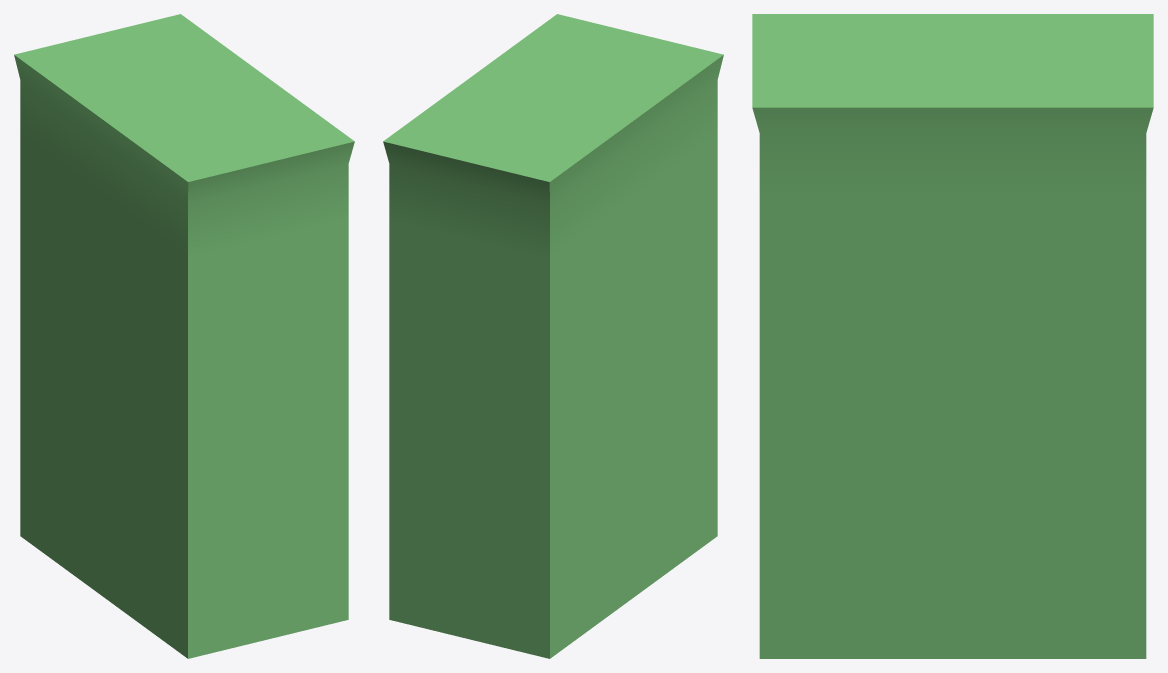
File: Bld3_Deco_Chimney_Mid.fbx
3 views of the same model, side by side, from view 1: azimuth 30°, elevation 25°; view 2: azimuth 150°, elevation 25°; view 3: azimuth 270°, elevation 25° (orthographic). The views are drawn at different scales.
Parts seen in each view (by area): view 1: Bld3_Deco_Chimney_Mid; view 2: Bld3_Deco_Chimney_Mid; view 3: Bld3_Deco_Chimney_Mid.
Boxes of the visible parts, x1,y1,x2,y2 form: Bld3_Deco_Chimney_Mid: [14, 14, 354, 658]; Bld3_Deco_Chimney_Mid: [383, 14, 723, 658]; Bld3_Deco_Chimney_Mid: [752, 14, 1153, 658].
Size of the model in its own units: 164 by 450 by 296.
